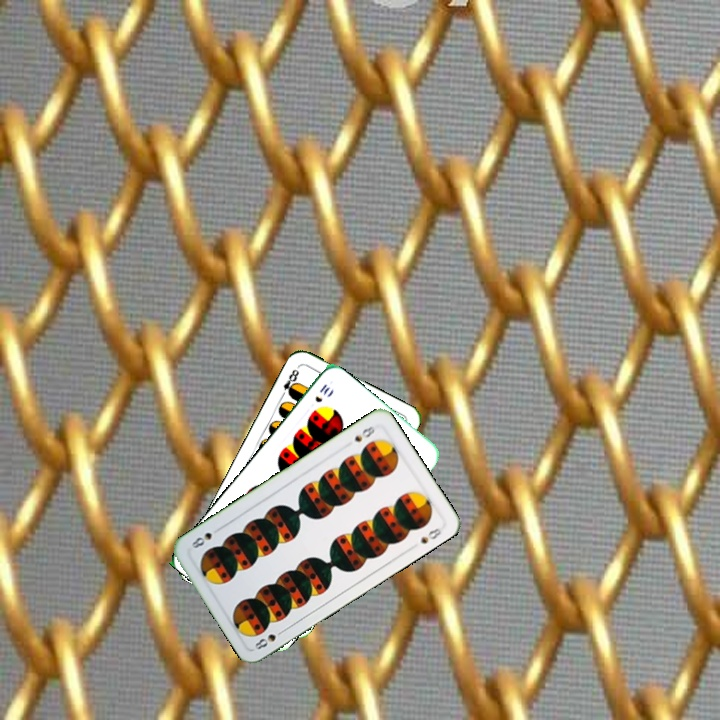E8: (277, 365, 302, 400)
S10: (311, 380, 333, 405)
S8: (250, 625, 288, 652), (350, 422, 377, 445)
